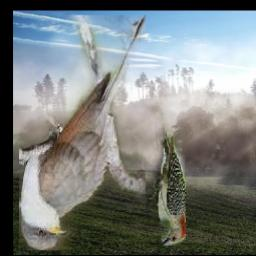Cuckoo: (19, 15, 146, 250)
Woodpecker: (146, 123, 186, 245)
